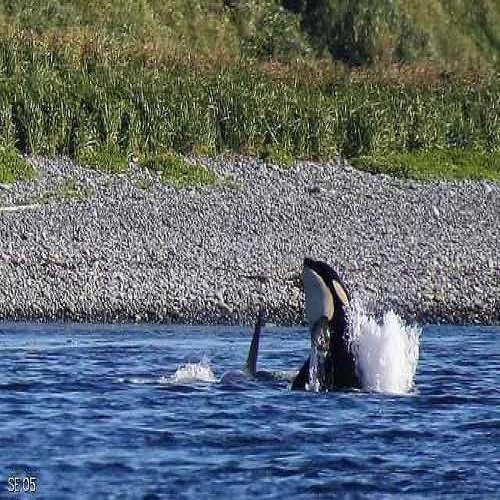killer_whale-endangered: (265, 215, 409, 408)
